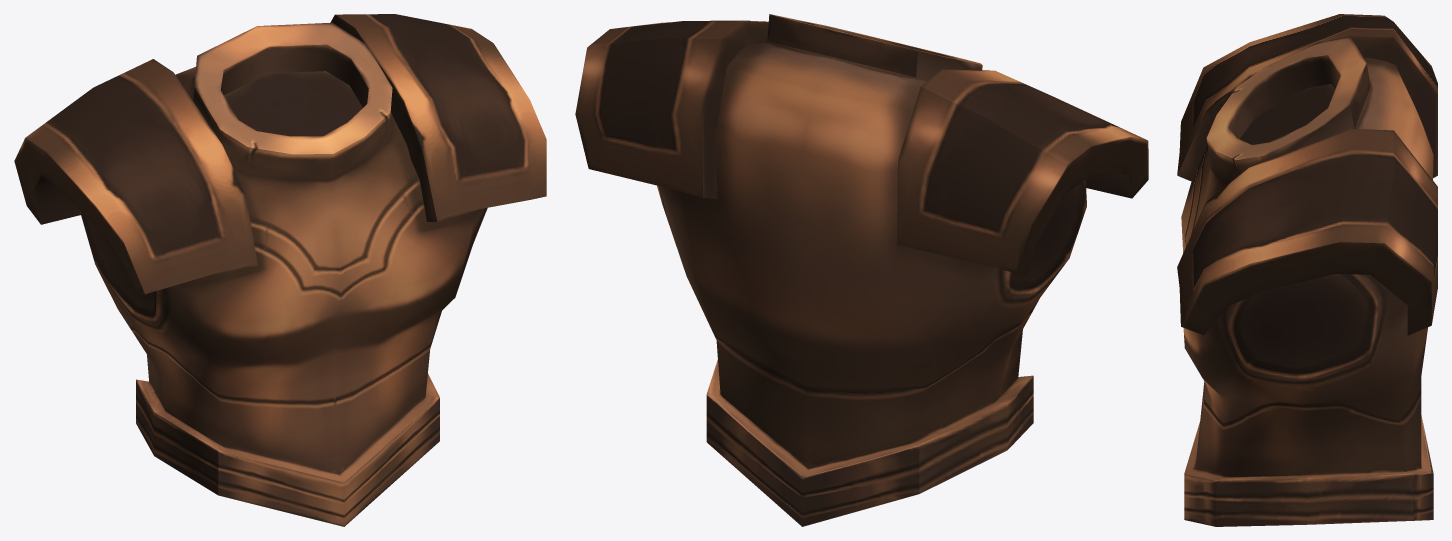
The model's file is 60_armor.FBX.
The picture shows the model from 3 angles, left to right: view 1: azimuth 30°, elevation 25°; view 2: azimuth 150°, elevation 25°; view 3: azimuth 270°, elevation 25°; orthographic projection. The views are drawn at different scales.
Parts seen in each view (by area): view 1: Cylinder005; view 2: Cylinder005; view 3: Cylinder005.
Boxes of the visible parts, bbox=[...] form: Cylinder005: bbox=[14, 14, 546, 526]; Cylinder005: bbox=[575, 14, 1148, 526]; Cylinder005: bbox=[1177, 14, 1437, 526].
Size of the model in its own units: 52.65 by 49.16 by 25.42.
